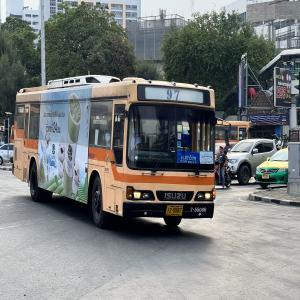BMTA-bus: (11, 76, 217, 229), (216, 119, 252, 174)
Bus Line Number: (164, 86, 182, 103)
Bus Side Number: (189, 205, 208, 212)
Destination Sign: (177, 150, 199, 164)
